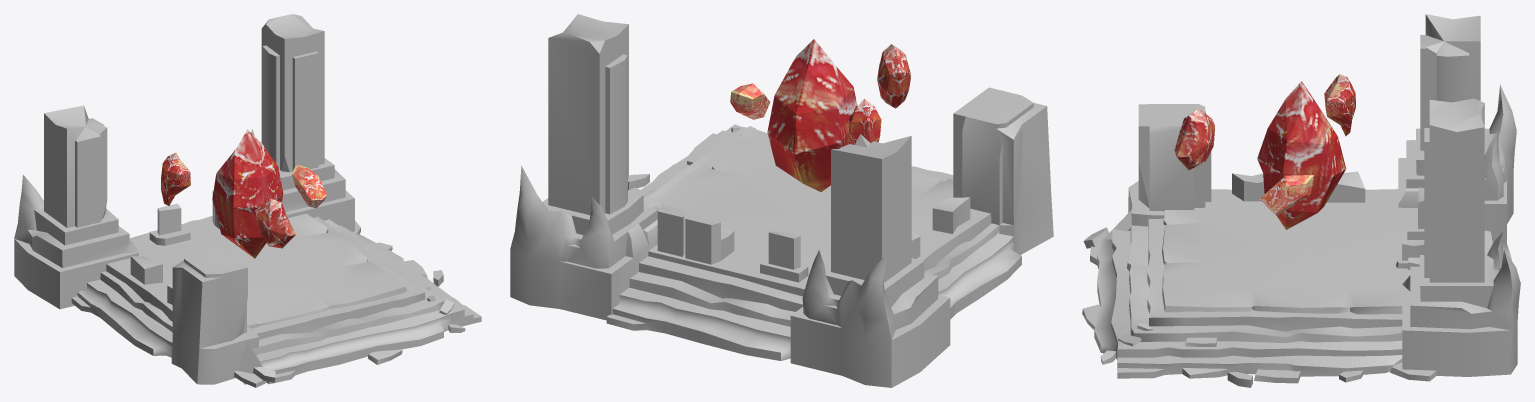
File: TopRedBase.FBX
3 views of the same model, side by side, from view 1: azimuth 30°, elevation 25°; view 2: azimuth 150°, elevation 25°; view 3: azimuth 270°, elevation 25° (orthographic). The views are drawn at different scales.
Parts seen in each view (by area): view 1: TopRedBase, TopRedBase_crystal01, TopRedBase_crystal03, TopRedBase_crystal02, TopRedBase_crystal04; view 2: TopRedBase, TopRedBase_crystal01, TopRedBase_crystal03, TopRedBase_crystal02, TopRedBase_crystal04; view 3: TopRedBase, TopRedBase_crystal01, TopRedBase_crystal03, TopRedBase_crystal04, TopRedBase_crystal02.
Part boxes in pixels (bbox=[...]): TopRedBase: bbox=[14, 14, 481, 387]; TopRedBase_crystal01: bbox=[212, 129, 283, 258]; TopRedBase_crystal03: bbox=[255, 199, 295, 248]; TopRedBase_crystal02: bbox=[161, 152, 190, 205]; TopRedBase_crystal04: bbox=[291, 164, 326, 208]; TopRedBase: bbox=[510, 14, 1053, 387]; TopRedBase_crystal01: bbox=[767, 39, 857, 192]; TopRedBase_crystal03: bbox=[877, 44, 911, 108]; TopRedBase_crystal02: bbox=[848, 98, 881, 144]; TopRedBase_crystal04: bbox=[730, 83, 770, 119]; TopRedBase: bbox=[1082, 14, 1520, 387]; TopRedBase_crystal01: bbox=[1257, 81, 1346, 229]; TopRedBase_crystal03: bbox=[1174, 109, 1214, 170]; TopRedBase_crystal04: bbox=[1260, 175, 1314, 215]; TopRedBase_crystal02: bbox=[1324, 74, 1355, 136].
Bounding box in the file's own units: 1010 × 637 × 996.
